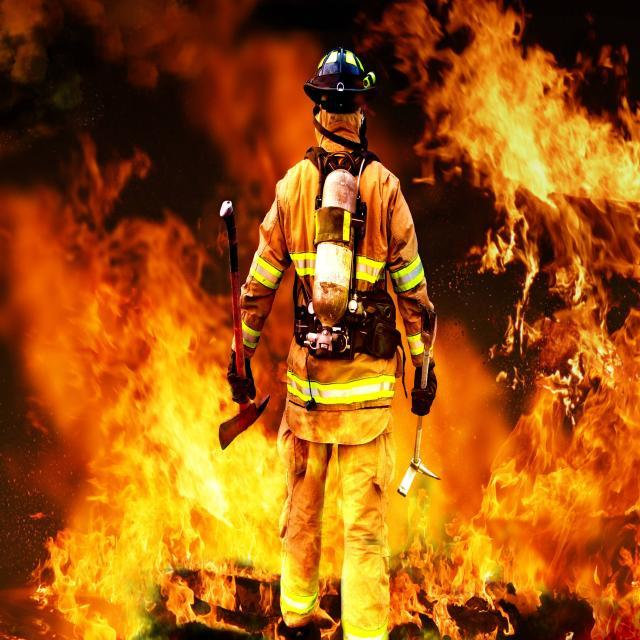Fire: (447, 24, 631, 634), (58, 314, 240, 640)
